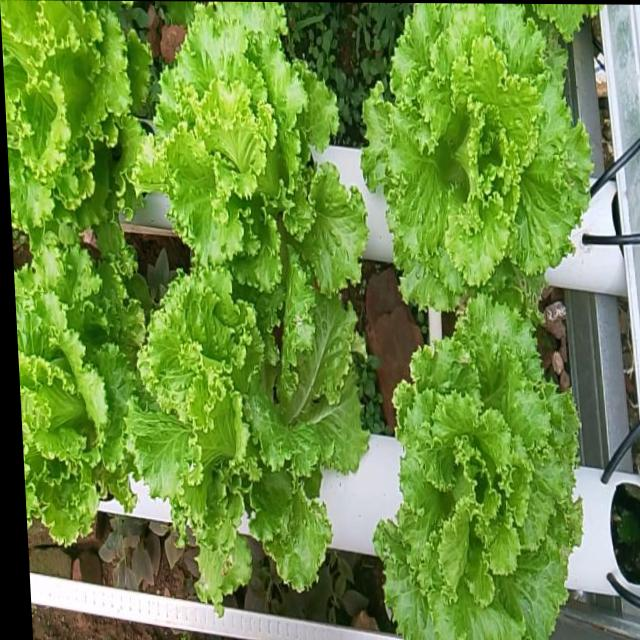Mature: (117, 277, 359, 613), (132, 3, 357, 322), (350, 4, 580, 314), (364, 296, 571, 640), (0, 0, 138, 260), (14, 256, 132, 559)
